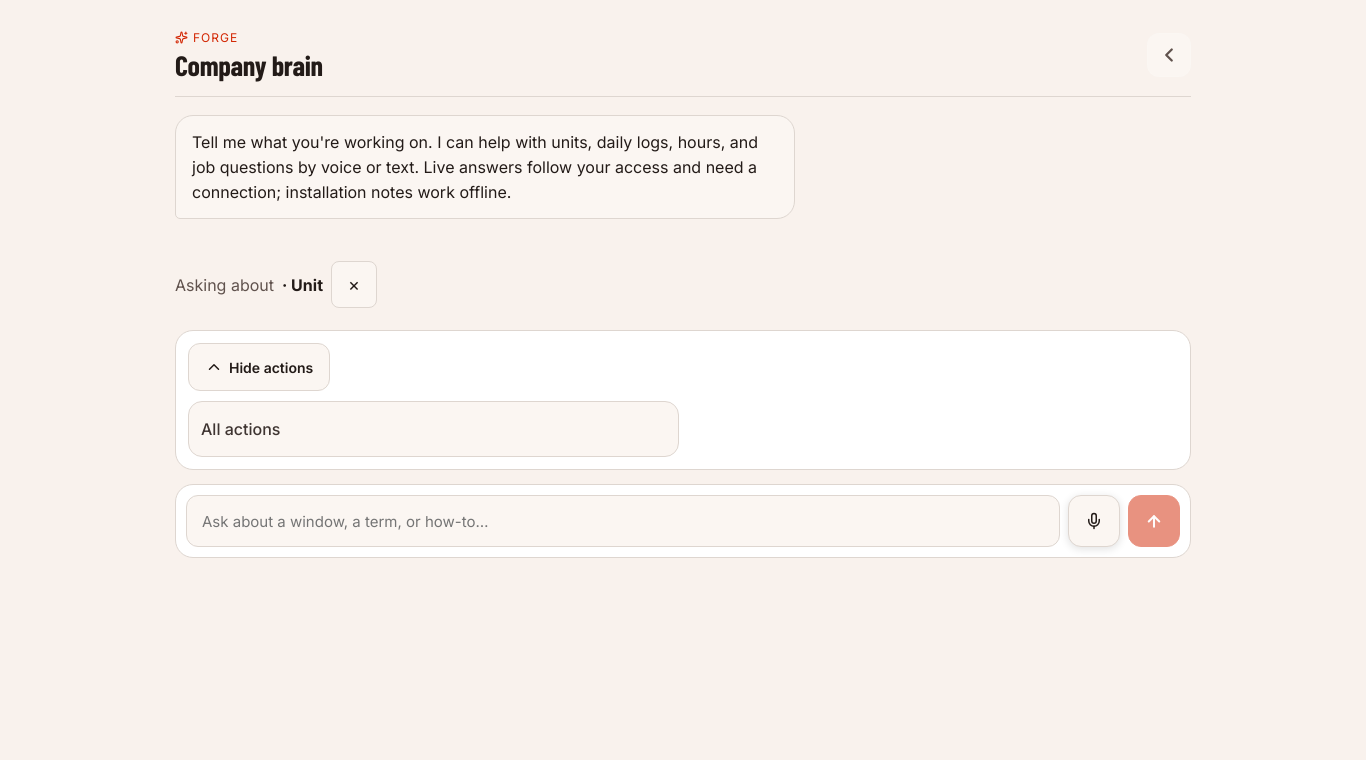
Test case: Ask's voice message and unsaved work › keeps two unsaved recordings separately when phone storage is unavailable
The width and height of the screenshot is (1366, 760).
What coordinates should you click on to do the following:
click the button named "Record a voice message"
I would click on:
 (1094, 521)
Its box is [1068,495,1120,547].
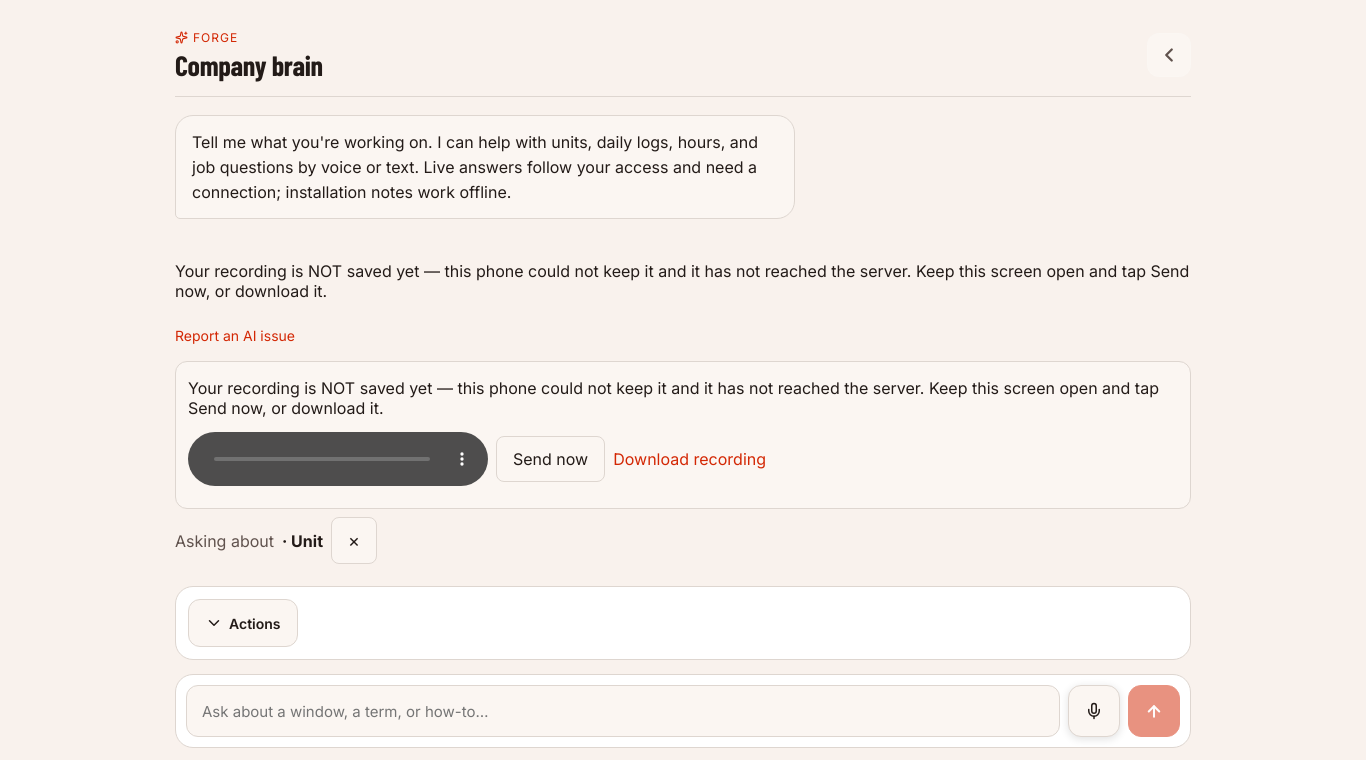
What coordinates should you click on to do the following:
click the button named "Record a voice message"
I would click on:
 (1094, 711)
Its box is [1068,685,1120,737].
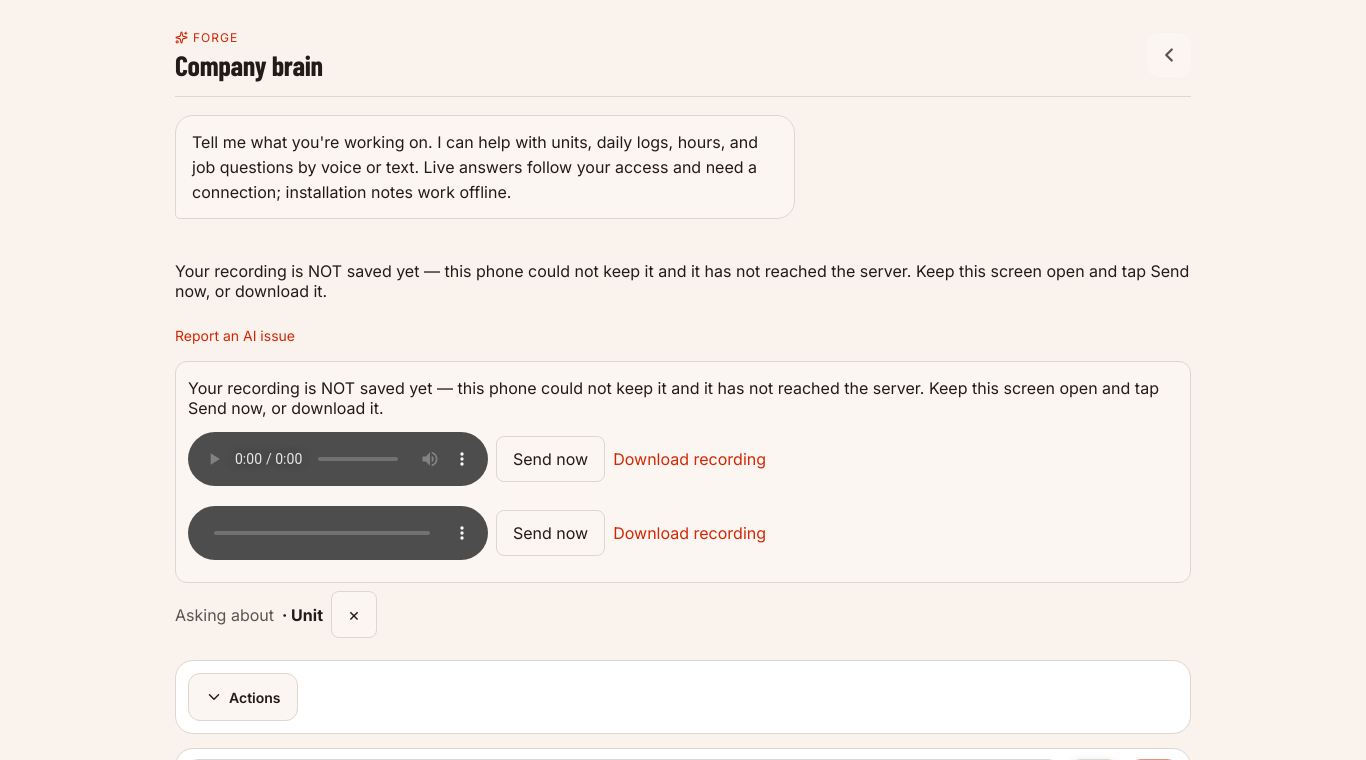
Now the number of links is 2, box [613,449,766,469]; [613,523,766,543]
